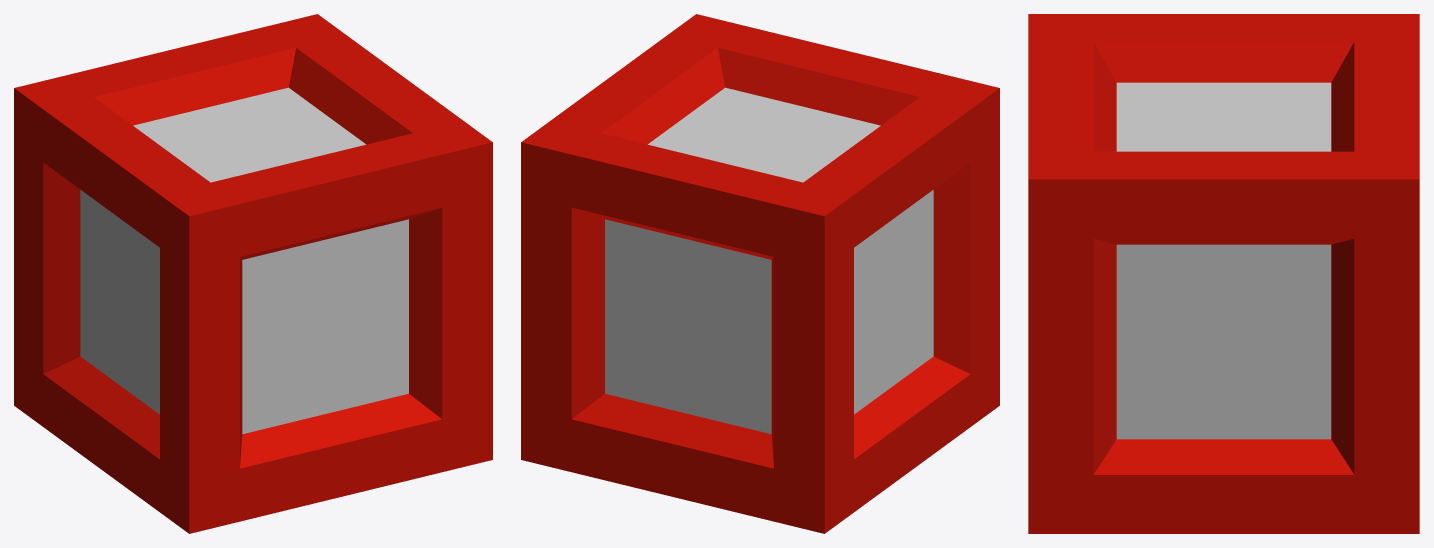
Rendered from key.fbx.
The picture shows the model from 3 angles, left to right: view 1: azimuth 30°, elevation 25°; view 2: azimuth 150°, elevation 25°; view 3: azimuth 270°, elevation 25°; orthographic projection. The views are drawn at different scales.
Parts seen in each view (by area): view 1: Key; view 2: Key; view 3: Key.
Part boxes in pixels (x1,y1,x2,y2): Key: (14,14,492,533); Key: (521,14,999,533); Key: (1028,14,1419,533).
Bounding box in the file's own units: 0.7168 × 0.7168 × 0.7168.
